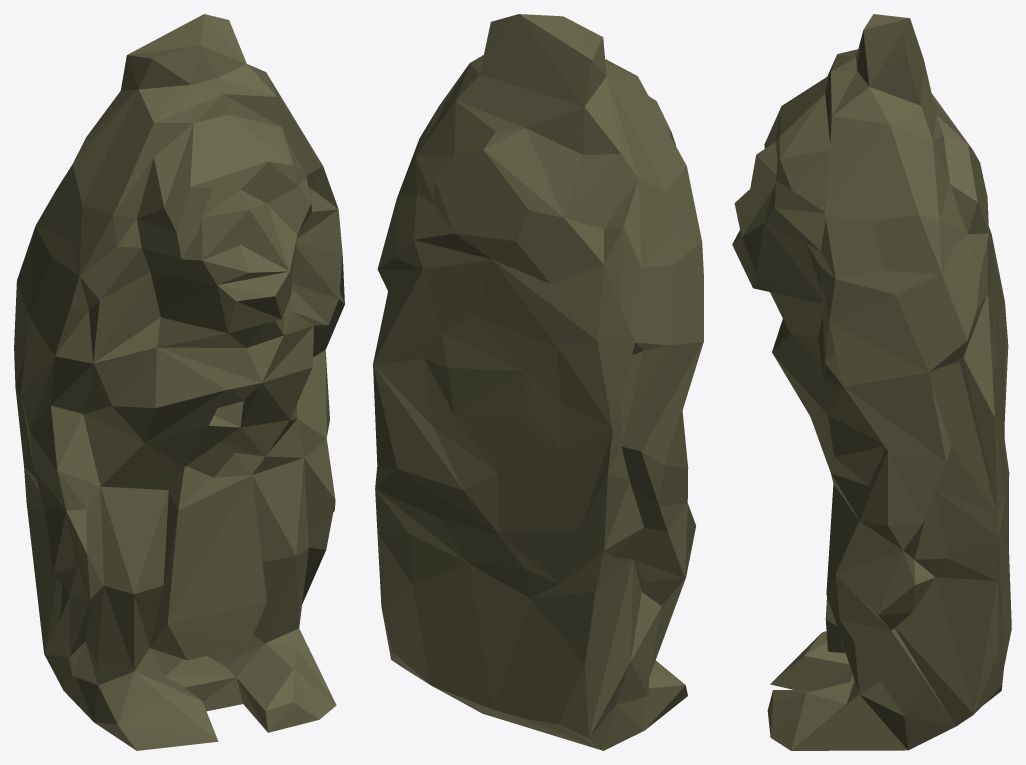
Rendered from aztec-effigy.lod1.glb.
The picture shows the model from 3 angles, left to right: view 1: azimuth 30°, elevation 25°; view 2: azimuth 150°, elevation 25°; view 3: azimuth 270°, elevation 25°; orthographic projection. The views are drawn at different scales.
Visible parts, largest first — view 1: Object_4; view 2: Object_4; view 3: Object_4.
Boxes of the visible parts, bbox=[...] form: Object_4: bbox=[14, 14, 344, 750]; Object_4: bbox=[373, 14, 703, 750]; Object_4: bbox=[732, 14, 1011, 750].
Bounding box in the file's own units: 0.5236 × 1.19 × 0.4398.
